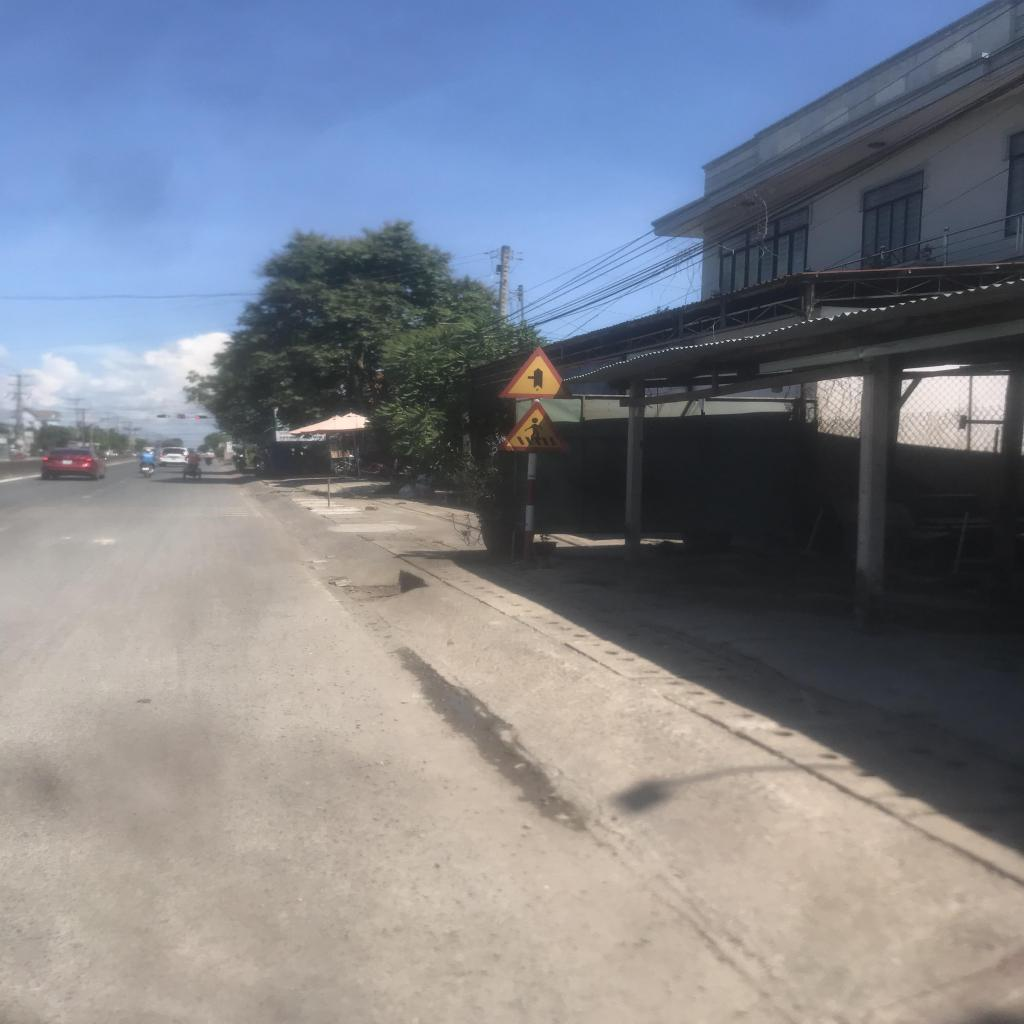chu_y_nguoi_di_bo_cat_ngang: (494, 400, 574, 452)
giao_nhau_voi_duong_khong_uu_tien: (499, 344, 574, 398)
